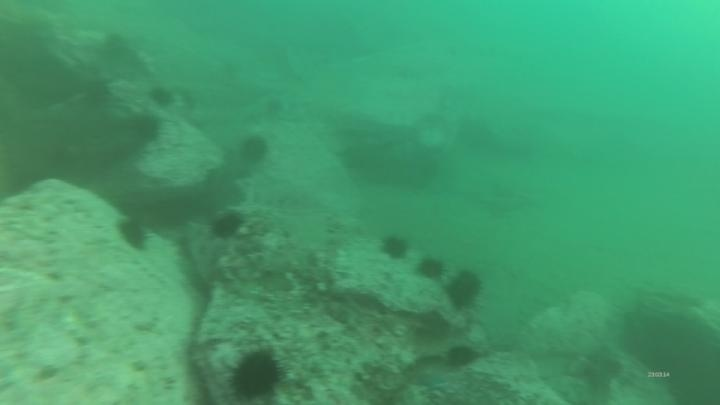echinus: (226, 346, 286, 402), (444, 268, 485, 311), (408, 308, 453, 347), (115, 215, 152, 253), (127, 111, 164, 146), (208, 209, 246, 242), (237, 133, 271, 167), (443, 342, 480, 372), (378, 232, 412, 262), (414, 254, 447, 283), (144, 81, 175, 109), (259, 95, 283, 117)
starfish: (411, 368, 451, 390)
